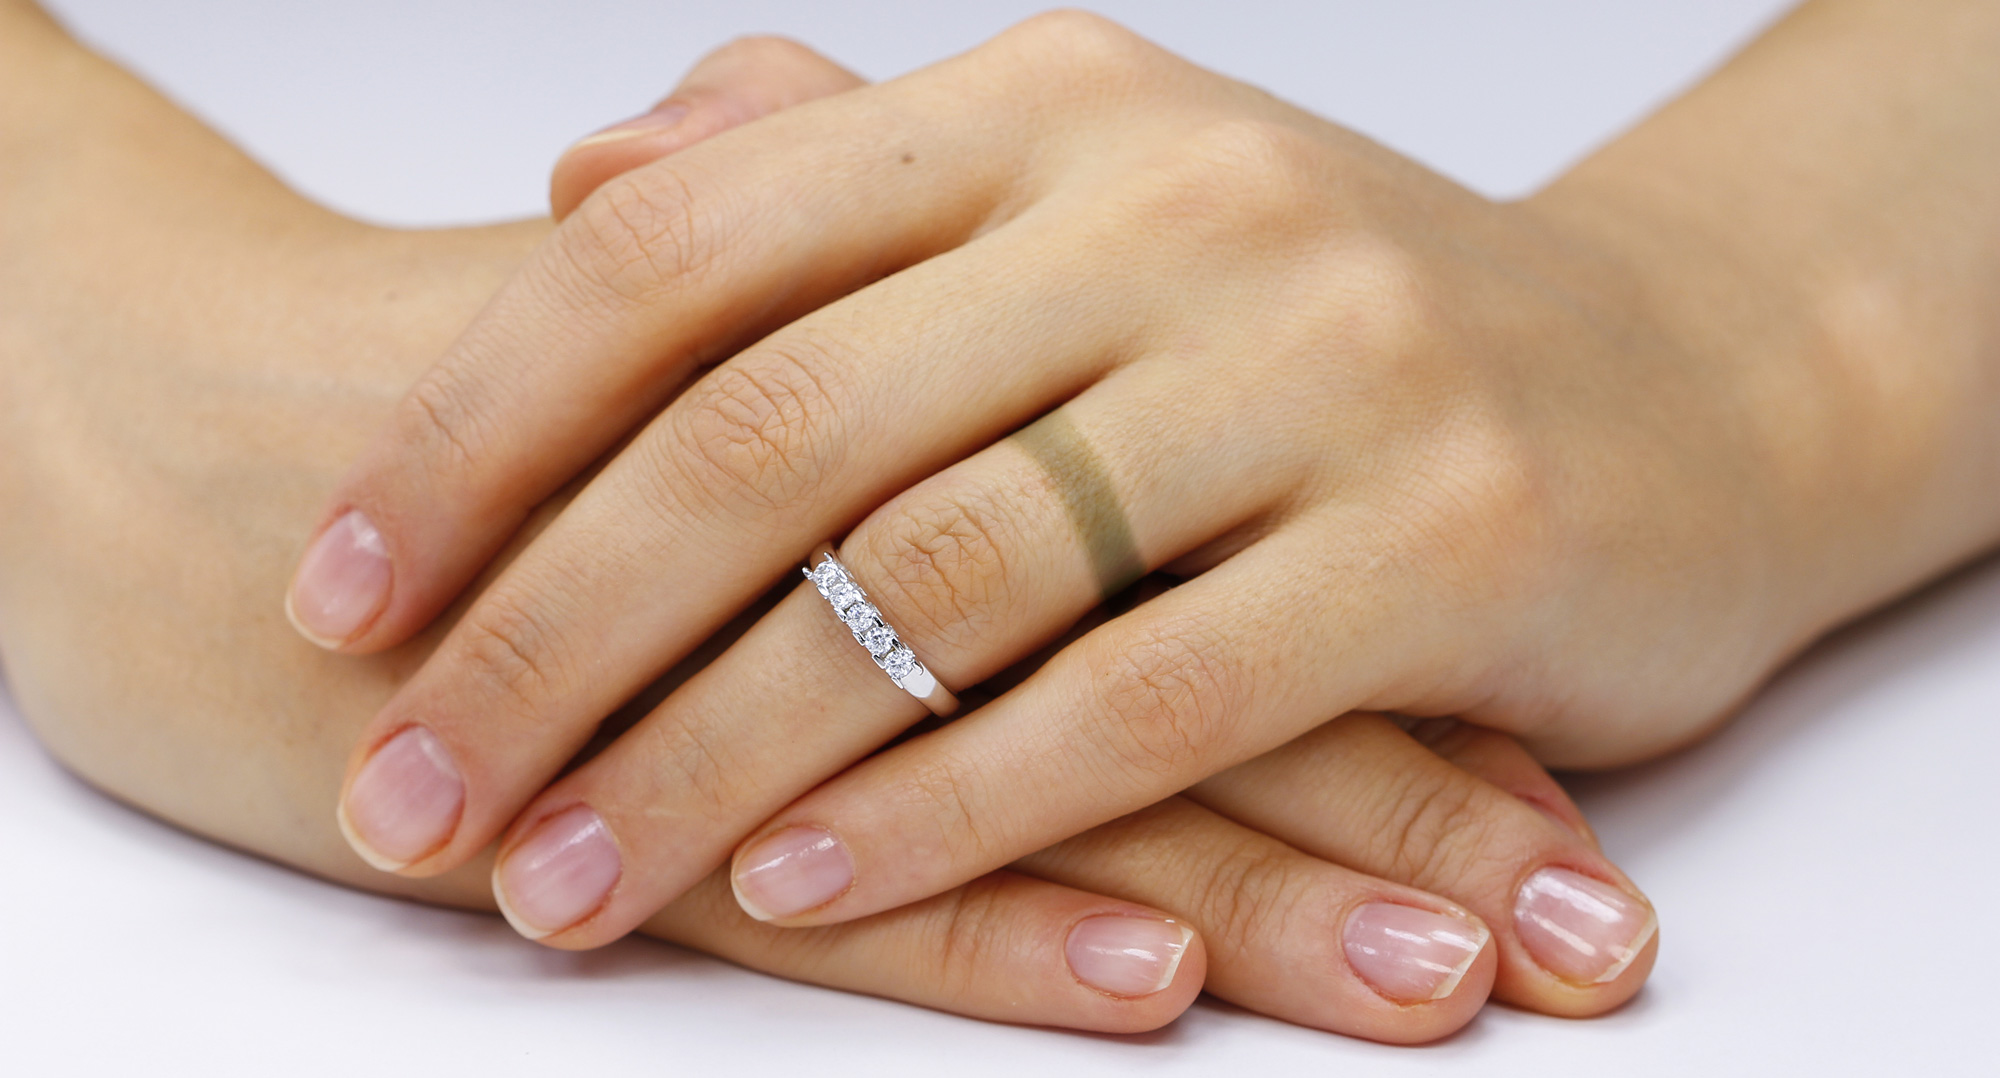finger: (325, 254, 1051, 838), (292, 66, 967, 660), (482, 408, 1228, 943), (721, 548, 1372, 941), (483, 765, 1216, 1038), (887, 783, 1546, 1043), (1299, 738, 1703, 1014)
